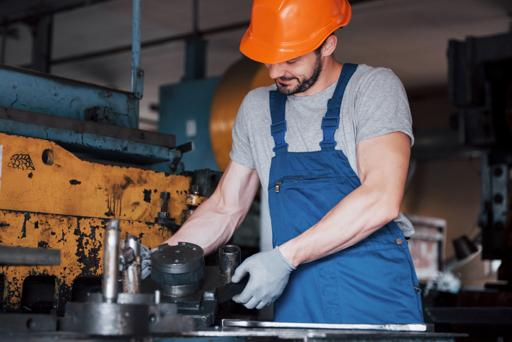safe person: (209, 1, 434, 315)
